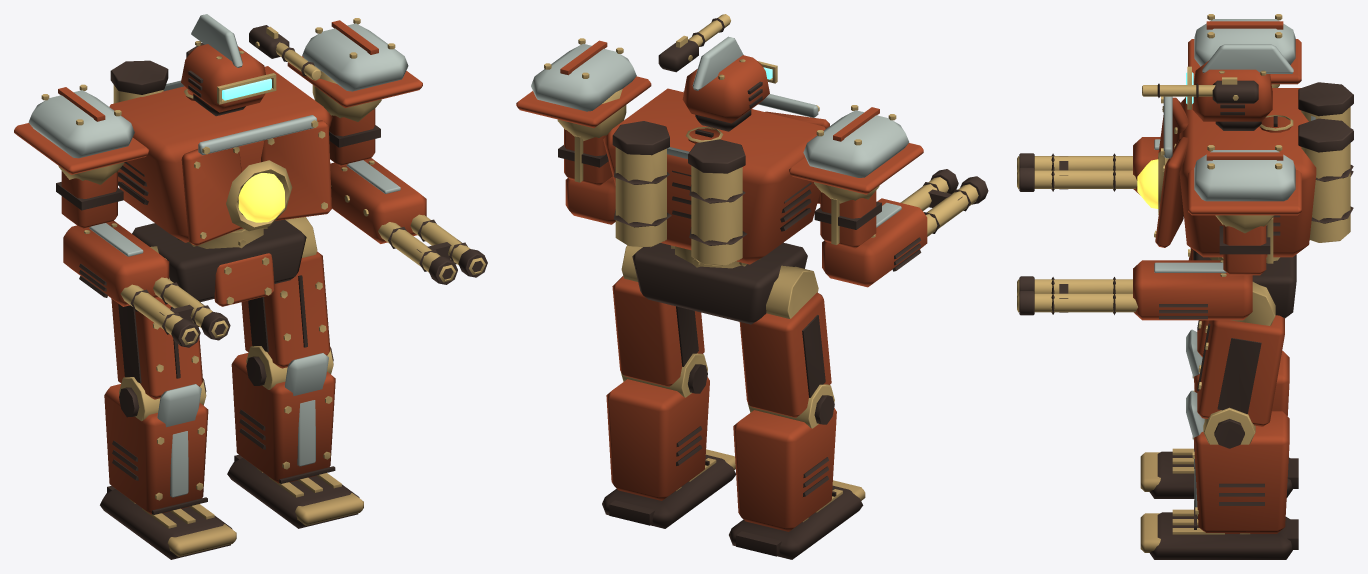
Rendered from ironvanguard.glb.
3 renders of one model, left to right at view 1: azimuth 30°, elevation 25°; view 2: azimuth 150°, elevation 25°; view 3: azimuth 270°, elevation 25°, orthographic.
Parts seen in each view (by area): view 1: Torso, Shin, Shin.001, Pelvis, Thigh.001, Forearm, Breastplate R, Forearm.001, Breastplate L, Pauldron, Pauldron.001, Thigh (+41 smaller); view 2: Torso, Shin, Shin.001, Reactor, Pelvis, Thigh, Thigh.001, Forearm, Pauldron, Pauldron.001, Head, Reactor cap (+23 smaller); view 3: Shin.001, Torso, Forearm.001, Thigh.001, Pauldron.001, Leg_fittings.001, Foot.001, Reactor, Barrel.001, Barrel, Reactor cap, Head (+33 smaller).
Boxes of the visible parts, x1,y1,x2,y2 form: Torso: (109, 66, 332, 242); Shin: (104, 384, 208, 514); Shin.001: (231, 352, 335, 483); Pelvis: (132, 219, 306, 302); Thigh.001: (241, 251, 330, 368); Forearm: (63, 221, 169, 306); Breastplate R: (261, 120, 331, 220); Forearm.001: (330, 158, 426, 243); Breastplate L: (181, 146, 242, 245); Pauldron: (28, 90, 134, 158); Pauldron.001: (302, 23, 408, 91); Thigh: (111, 298, 202, 399); Torso: (603, 88, 825, 264); Shin: (733, 408, 836, 531); Shin.001: (606, 377, 709, 500); Reactor: (615, 147, 742, 265); Pelvis: (632, 242, 807, 324); Thigh: (739, 292, 831, 417); Thigh.001: (612, 276, 704, 386); Forearm: (822, 198, 927, 287); Pauldron: (803, 110, 909, 177); Pauldron.001: (531, 43, 636, 111); Head: (682, 55, 769, 123); Reactor cap: (612, 121, 745, 173); Shin.001: (1194, 411, 1289, 533); Torso: (1179, 88, 1316, 257); Forearm.001: (1133, 260, 1252, 320); Thigh.001: (1197, 315, 1284, 426); Pauldron.001: (1194, 150, 1295, 201); Leg_fittings.001: (1194, 323, 1298, 549); Foot.001: (1149, 512, 1292, 559); Reactor: (1301, 107, 1350, 242); Barrel.001: (1034, 279, 1137, 312); Barrel: (1034, 156, 1137, 188); Reactor cap: (1298, 82, 1353, 152); Head: (1192, 61, 1272, 121).
Size of the model in its own units: 2.62 by 3.38 by 2.19.
